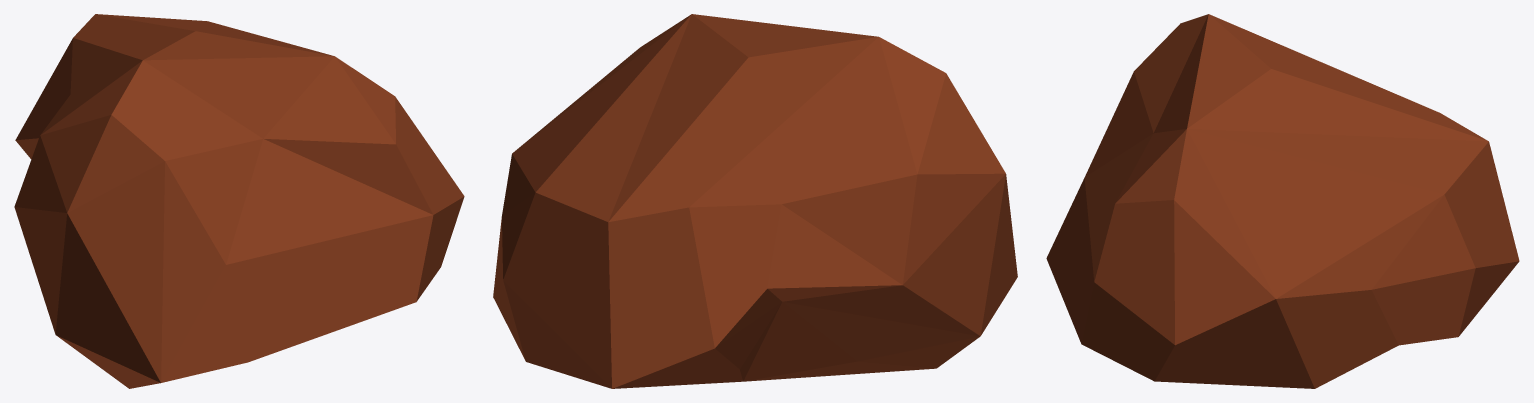
File: Large_Rock1.fbx
3 views of the same model, side by side, from view 1: azimuth 30°, elevation 25°; view 2: azimuth 150°, elevation 25°; view 3: azimuth 270°, elevation 25° (orthographic). The views are drawn at different scales.
Parts seen in each view (by area): view 1: Large_Rock1; view 2: Large_Rock1; view 3: Large_Rock1.
Part boxes in pixels (x1,y1,x2,y2): Large_Rock1: [14, 14, 464, 388]; Large_Rock1: [493, 14, 1017, 388]; Large_Rock1: [1046, 14, 1519, 388].
Bounding box in the file's own units: 6.85 × 5.02 × 7.33.
